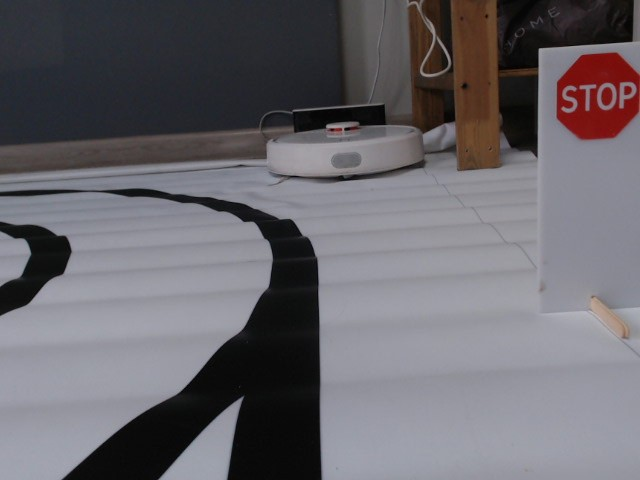Stop: (554, 50, 640, 143)
